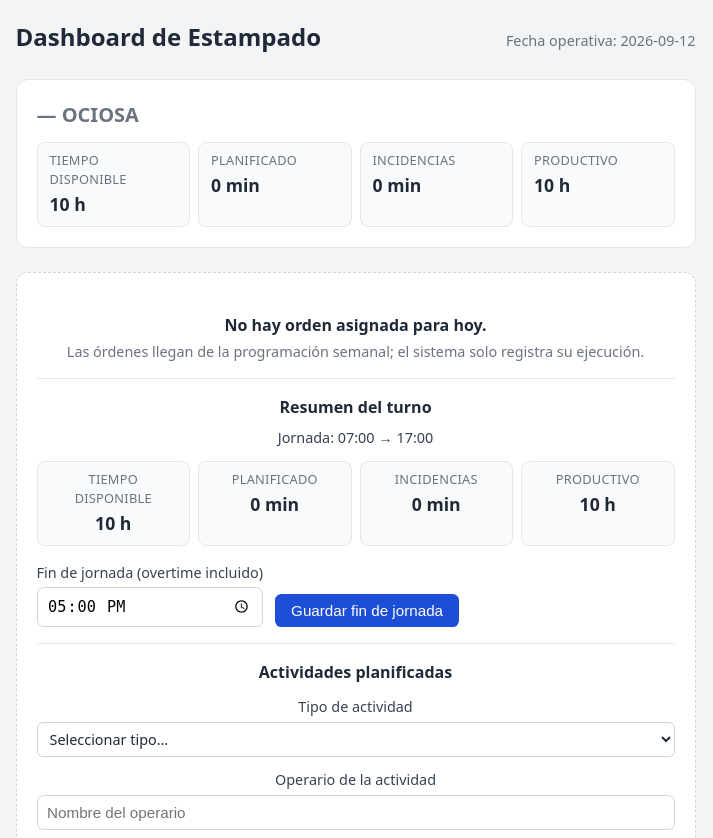
Test: App — ticket 03: actividades planificadas (UI) › registra una limpieza en día vacío y muestra la actividad activa
Select "Limpieza" in the dropdown labelled "Tipo de actividad" at (356, 739), box [36,722,674,757]
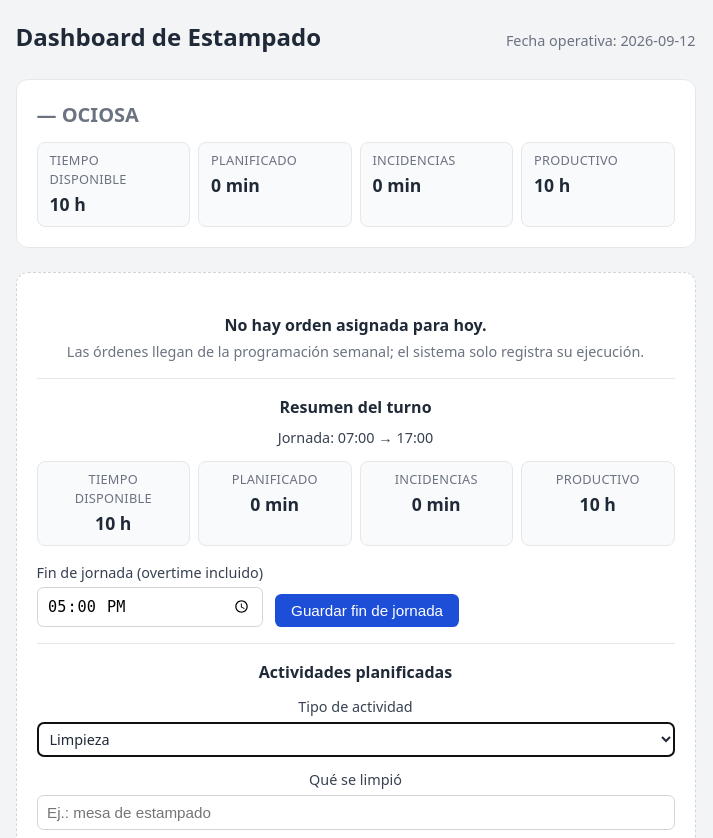
Type "mesa de estampado" into the field labelled "Qué se limpió" at (356, 812), box [36,794,674,830]
(page scrolled)
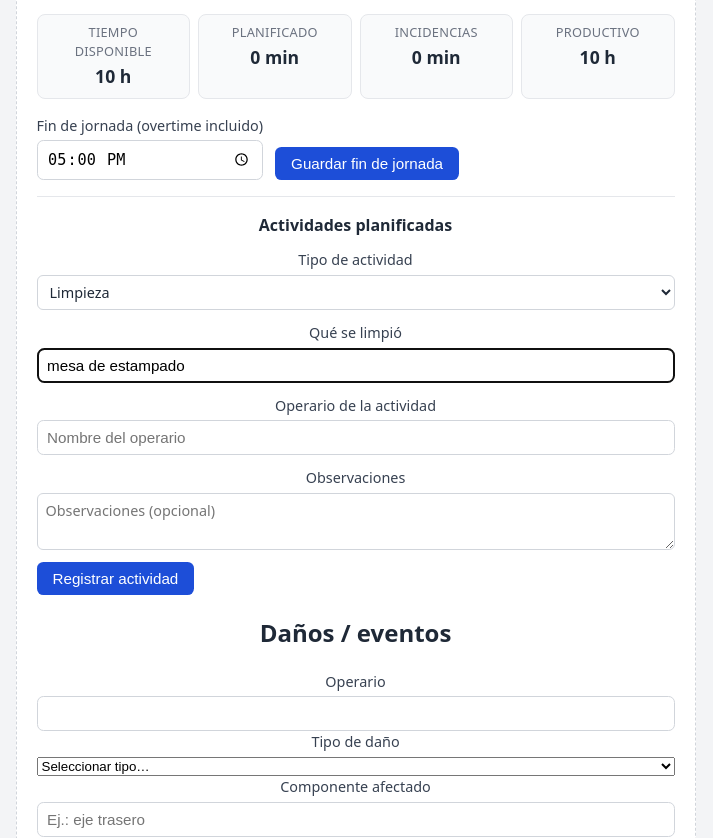
Type "Laura" into the field labelled "Operario de la actividad" at (356, 438), box [36,420,674,455]
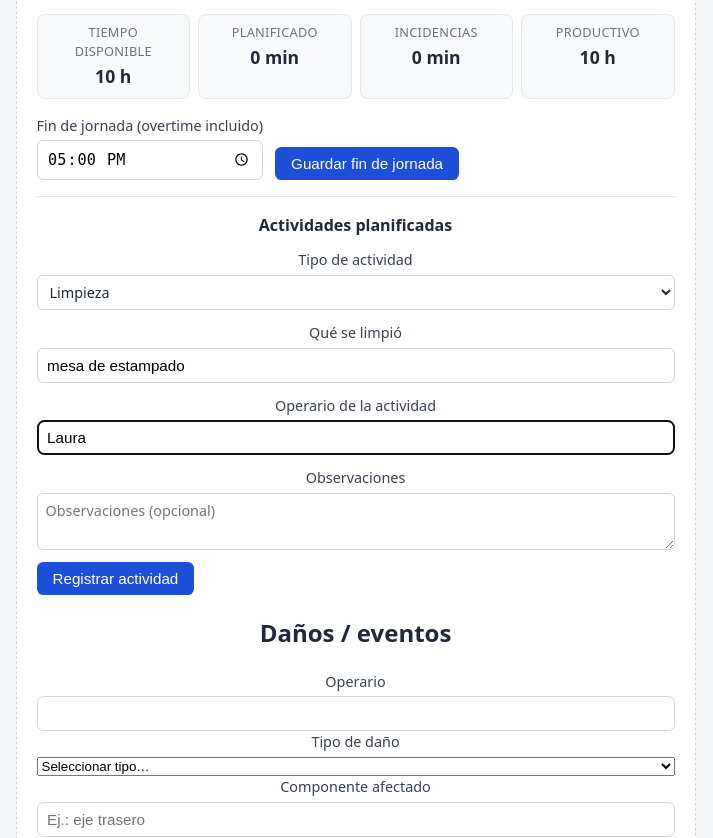
Click the button "Registrar actividad" at (115, 578), box [36,562,194,595]
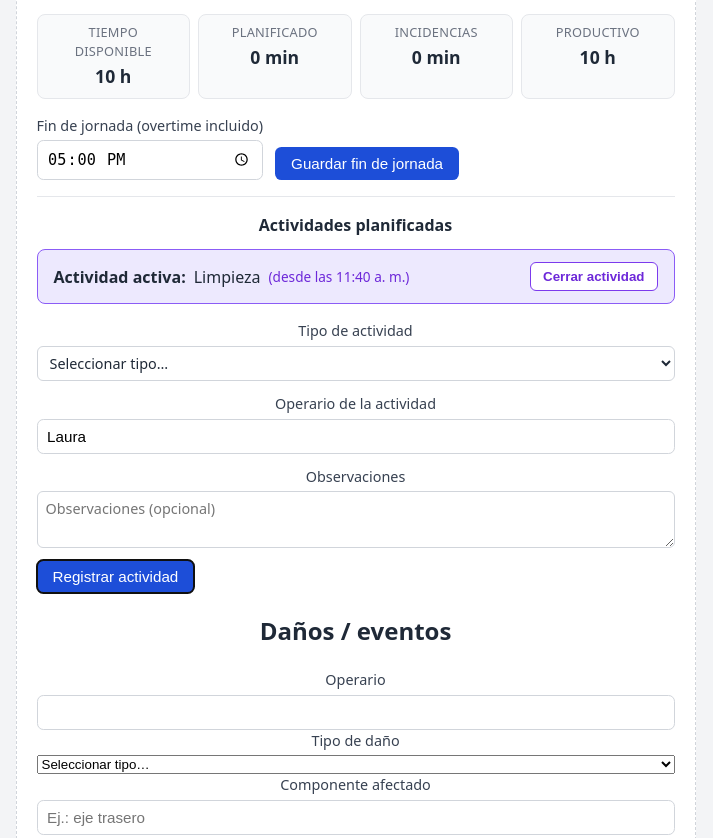
Now the message with test id "actividad-abierta-limpieza" shows "Limpieza", box [194,266,260,288]
Now the message with test id "actividad-abierta-limpieza" shows "desde las", box [268,267,336,286]
